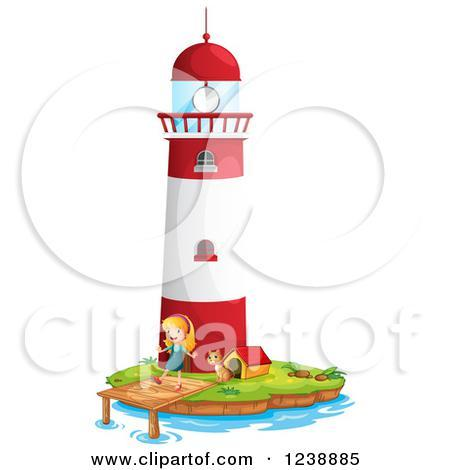cat: (205, 350, 239, 387)
person: (152, 316, 198, 390)
